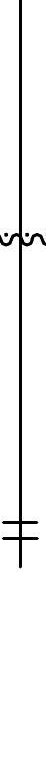115_buffer: (2, 521, 39, 540)
